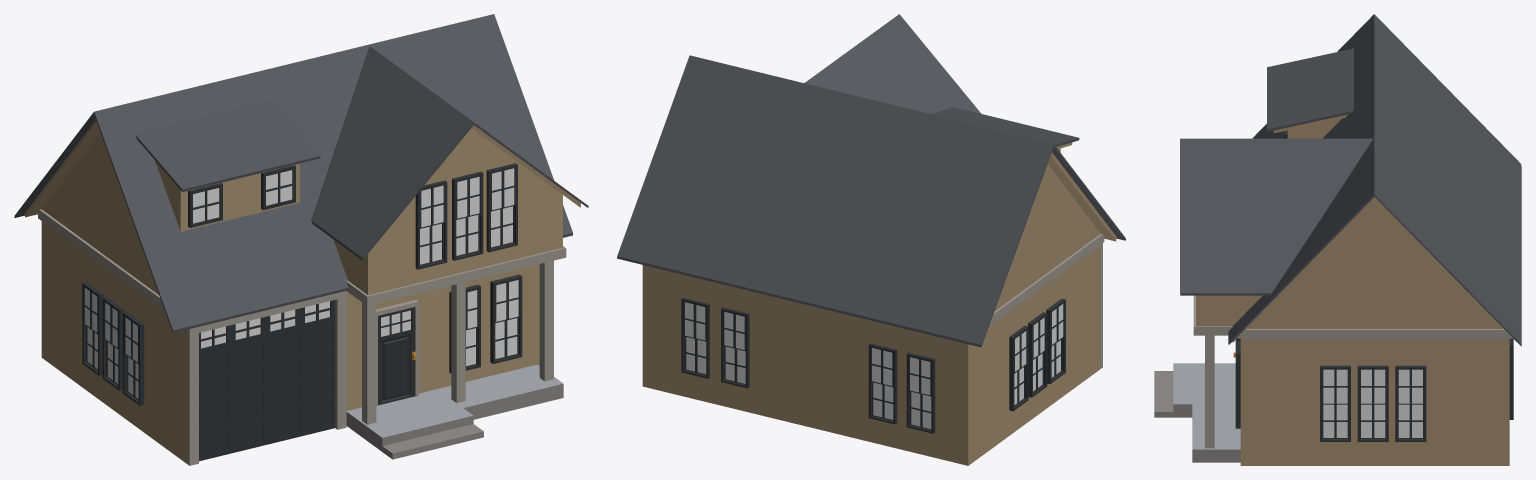
File: SM_house_05_B.gltf
3 views of the same model, side by side, from view 1: azimuth 30°, elevation 25°; view 2: azimuth 150°, elevation 25°; view 3: azimuth 270°, elevation 25° (orthographic). The views are drawn at different scales.
Parts seen in each view (by area): view 1: SM_house_05_B; view 2: SM_house_05_B; view 3: SM_house_05_B.
Part boxes in pixels (<box>): SM_house_05_B: <box>14,14,588,465</box>; SM_house_05_B: <box>617,14,1125,465</box>; SM_house_05_B: <box>1154,14,1521,465</box>.
Size of the model in its own units: 4.15 by 3.02 by 3.57.
